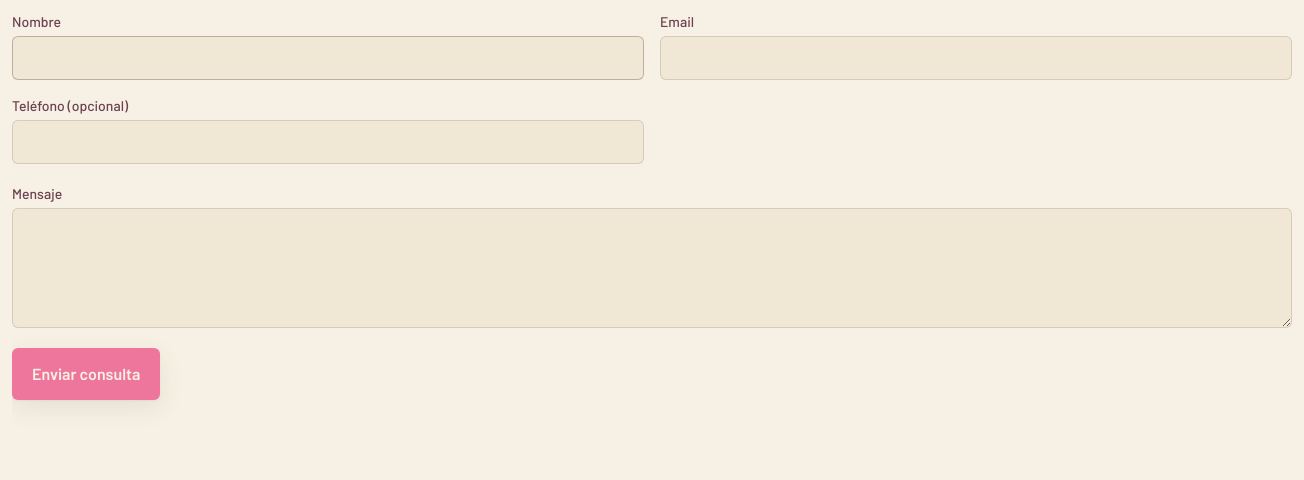
Test case: ContactForm › flags missing required fields
The image size is (1304, 480).
Click the button "Enviar consulta" at (86, 374), box [12, 348, 160, 400]
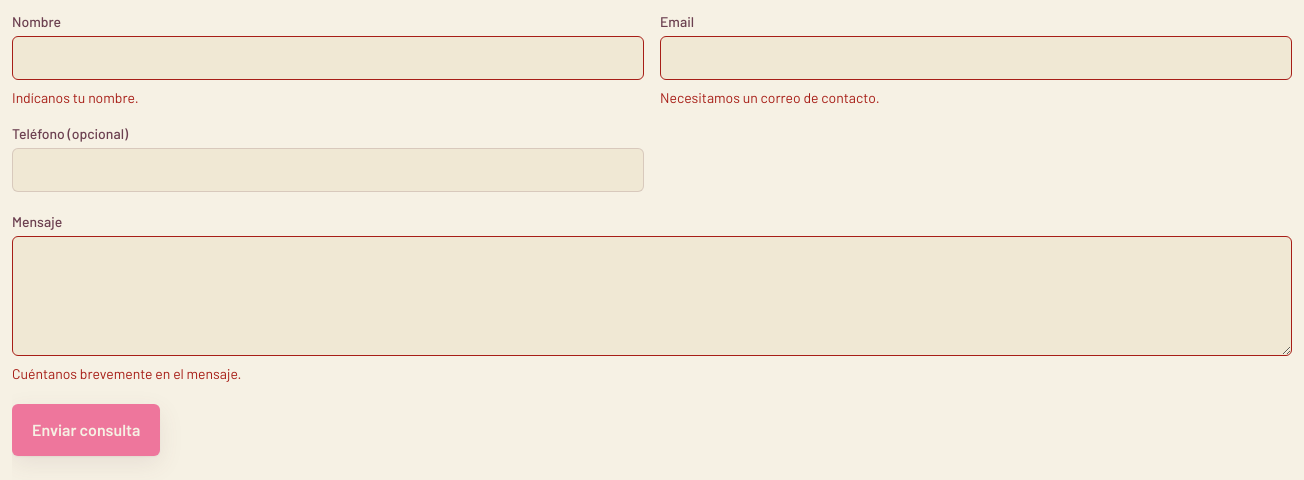
expect the text "Indícanos tu nombre." is shown: met, box [12, 89, 138, 106]
